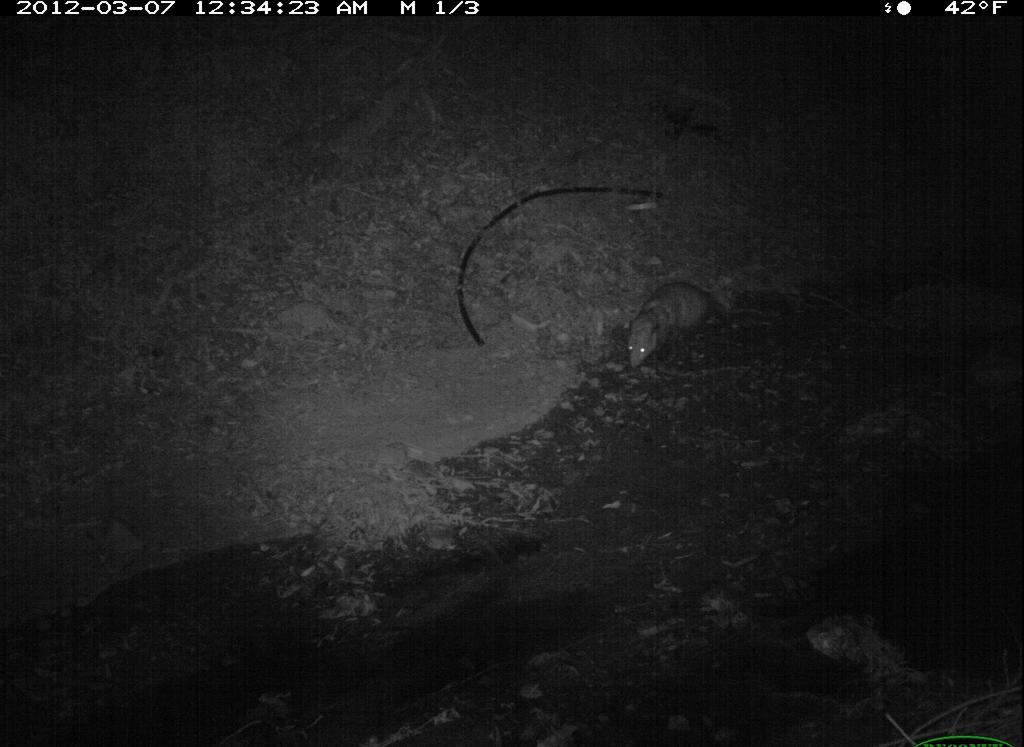opossum: (617, 273, 743, 376)
